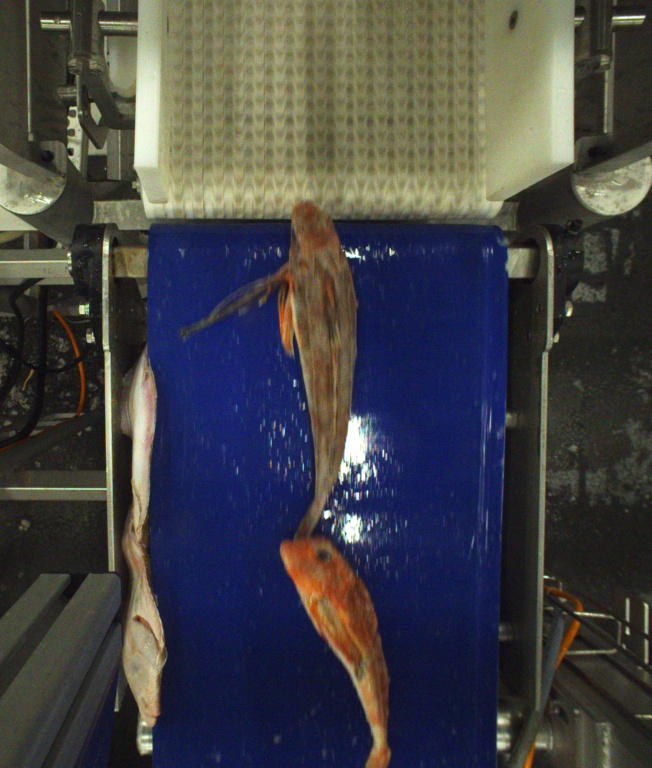GUU: (179, 203, 359, 543)
